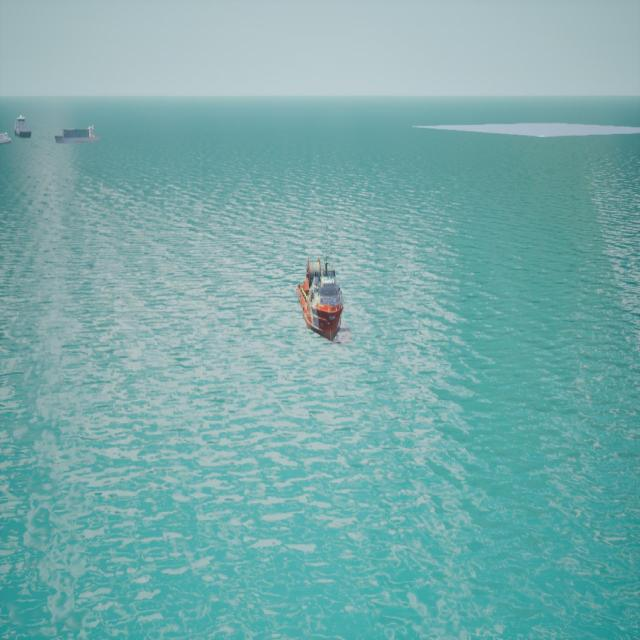tug boat: (299, 260, 345, 342)
